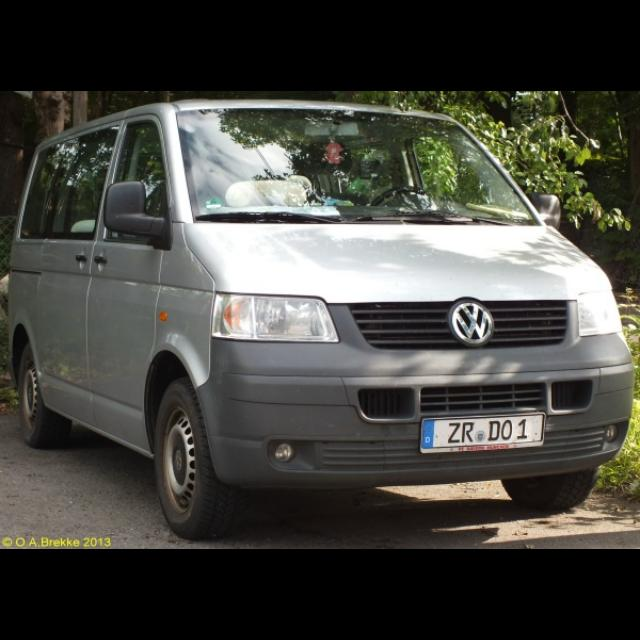d_license_plate: (422, 414, 542, 448)
